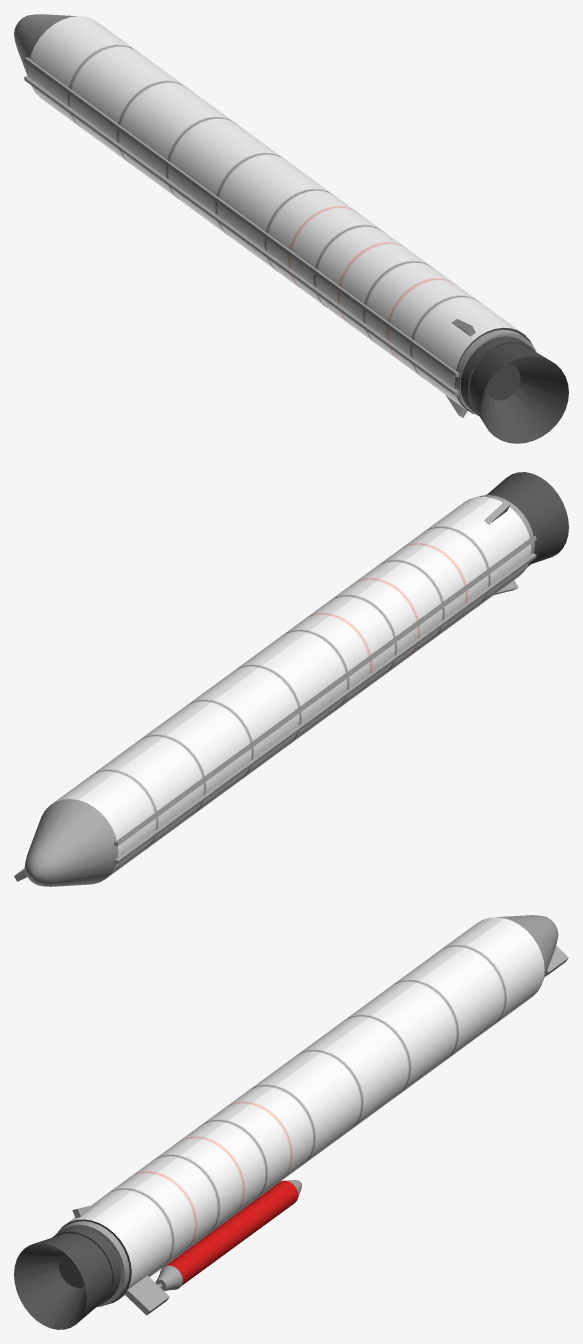
The picture shows the model from 3 angles, top to bottom: view 1: azimuth 30°, elevation 25°; view 2: azimuth 150°, elevation 25°; view 3: azimuth 330°, elevation 25°; orthographic projection. The views are drawn at different scales.
Parts seen in each view (by area): view 1: group0, group12, group11, group13, group2, group6; view 2: group0, group2, group11, group12, group13; view 3: group0, group12, group1, group13, group2, group6, group8, group4.
Boxes of the visible parts, box(x1,y1,x2,y2) form: group0: box(28, 16, 521, 414); group12: box(454, 327, 568, 443); group11: box(24, 57, 459, 395); group13: box(460, 336, 534, 415); group2: box(14, 14, 76, 76); group6: box(455, 329, 536, 415); group0: box(51, 496, 531, 876); group2: box(24, 799, 118, 886); group11: box(114, 536, 536, 864); group12: box(467, 472, 568, 563); group13: box(485, 492, 541, 565); group0: box(60, 917, 544, 1298); group12: box(14, 1219, 131, 1329); group1: box(160, 1180, 298, 1285); group13: box(52, 1226, 120, 1307); group2: box(497, 915, 558, 981); group6: box(55, 1221, 129, 1306); group8: box(124, 1275, 169, 1315); group4: box(155, 1265, 182, 1290).
Size of the model in its own units: 4.02 by 3.83 by 33.47.
Materials: 4 (1 with a texture image).
